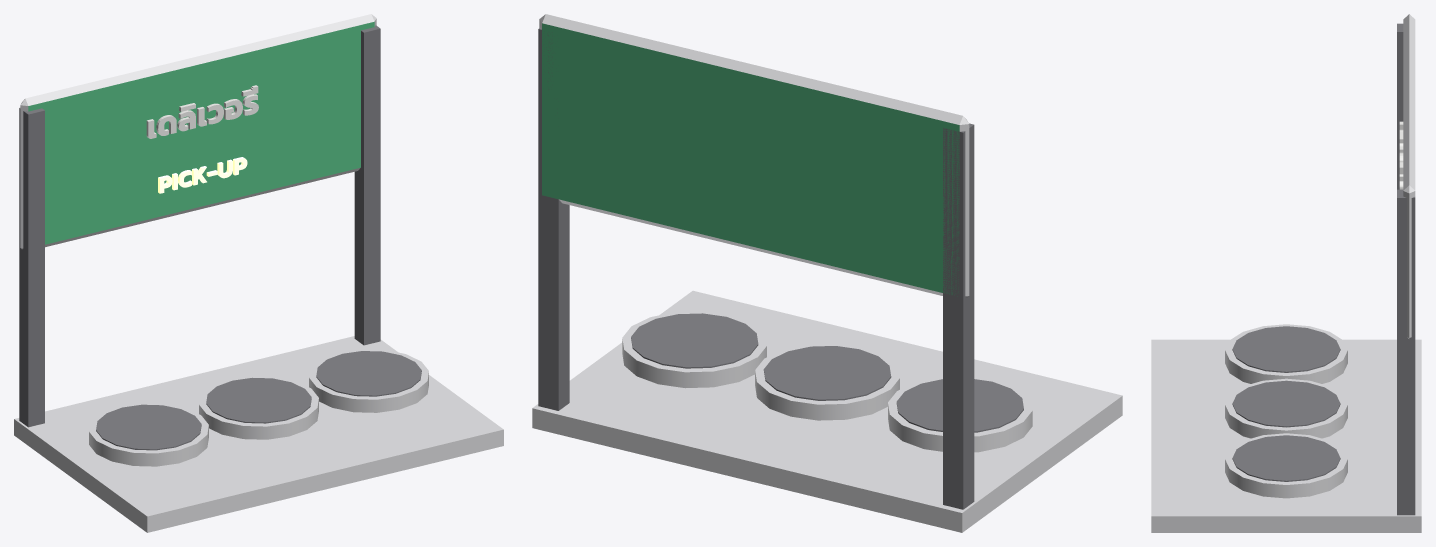
The model's file is SM_PickupRack.fbx.
The picture shows the model from 3 angles, left to right: view 1: azimuth 30°, elevation 25°; view 2: azimuth 150°, elevation 25°; view 3: azimuth 270°, elevation 25°; orthographic projection. The views are drawn at different scales.
Visible parts, largest first — view 1: SM_PickupRack; view 2: SM_PickupRack; view 3: SM_PickupRack.
Part boxes in pixels (box(x1,y1,x2,y2)): SM_PickupRack: box(14, 14, 503, 532); SM_PickupRack: box(532, 14, 1122, 532); SM_PickupRack: box(1151, 14, 1421, 532).
Bounding box in the file's own units: 0.34 × 0.31 × 0.22.
